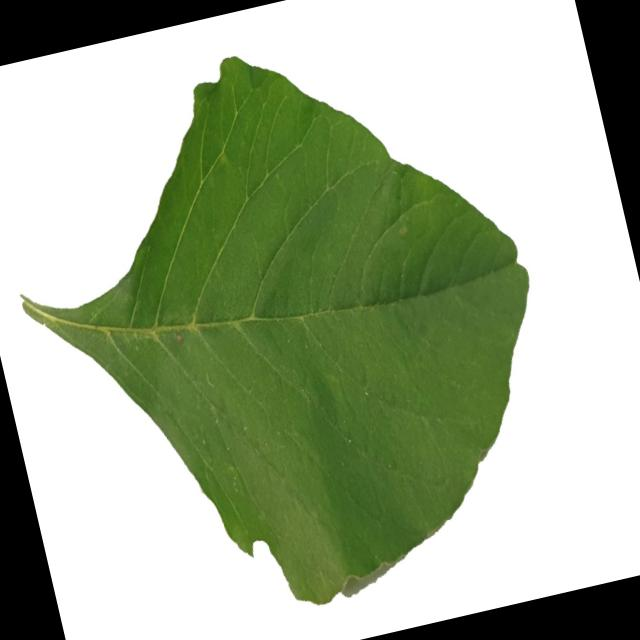Medicinal-Arive Dantu: (0, 3, 588, 640)
